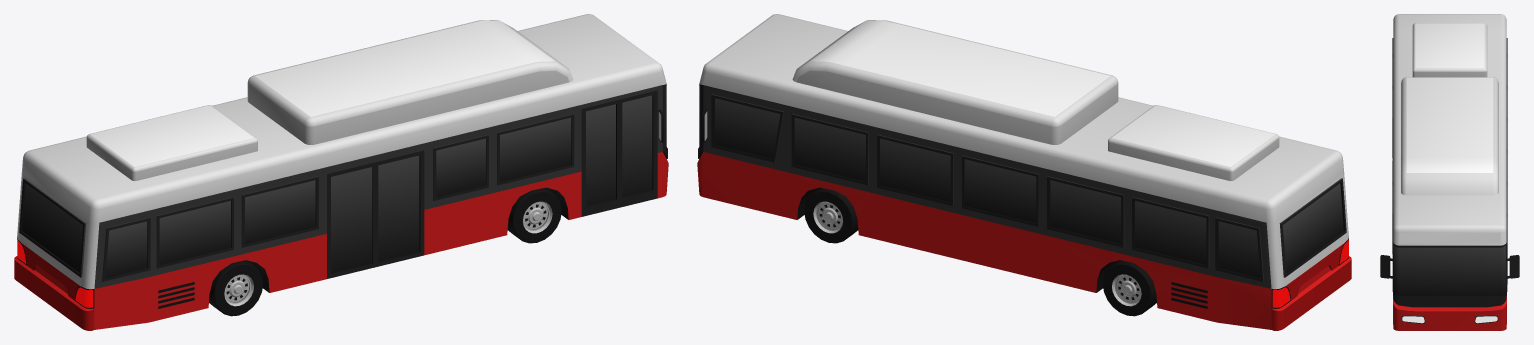
The model's file is Truck_012.glb.
The picture shows the model from 3 angles, left to right: view 1: azimuth 30°, elevation 25°; view 2: azimuth 150°, elevation 25°; view 3: azimuth 270°, elevation 25°; orthographic projection. The views are drawn at different scales.
Visible parts, largest first — view 1: Truck_012, wheel_3_Truck_012_Wheel_2R, wheel_1_Truck_012_Wheel_1R; view 2: Truck_012, wheel_2_Truck_012_Wheel_2L, wheel_0_Truck_012_Wheel_1L; view 3: Truck_012.
Boxes of the visible parts, x1,y1,x2,y2 form: Truck_012: (14,14,668,330); wheel_3_Truck_012_Wheel_2R: (209,260,263,316); wheel_1_Truck_012_Wheel_1R: (507,188,561,243); Truck_012: (697,14,1351,330); wheel_2_Truck_012_Wheel_2L: (1102,260,1156,316); wheel_0_Truck_012_Wheel_1L: (804,188,858,243); Truck_012: (1380,14,1519,330).
Bounding box in the file's own units: 9.7 × 2.73 × 2.59.
Materials: 2 (2 with a texture image).
